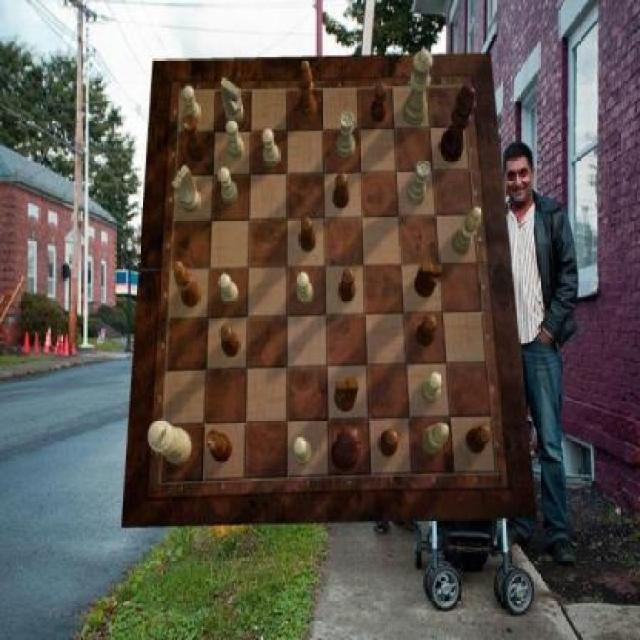bishop: (174, 262, 201, 308), (299, 60, 316, 118)
black-bishop: (440, 83, 477, 162)
black-king: (414, 262, 441, 298), (334, 379, 358, 413)
black-knight: (466, 424, 491, 454), (370, 83, 388, 122), (416, 315, 436, 348), (220, 325, 240, 357), (334, 172, 351, 208), (339, 269, 356, 303), (299, 217, 316, 251), (380, 429, 400, 457)
black-pawn: (332, 426, 360, 472)
black-queen: (182, 114, 206, 160), (206, 429, 232, 463)
black-rook: (452, 208, 482, 255), (422, 423, 449, 455)
white-bishop: (148, 418, 192, 464)
white-king: (172, 166, 202, 214), (220, 77, 244, 125)
white-knight: (227, 120, 246, 158), (218, 168, 238, 204), (183, 86, 201, 126), (262, 129, 279, 168), (423, 372, 443, 403), (295, 272, 313, 306), (218, 274, 238, 304), (292, 439, 312, 466)
white-pawn: (403, 48, 433, 125)
white-queen: (408, 158, 432, 204), (336, 112, 354, 158)
